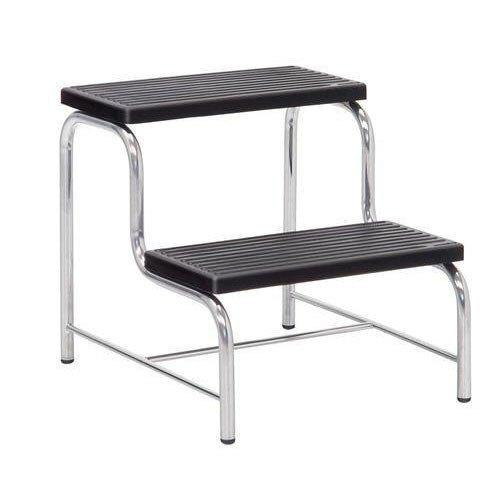stool: (46, 50, 495, 446)
